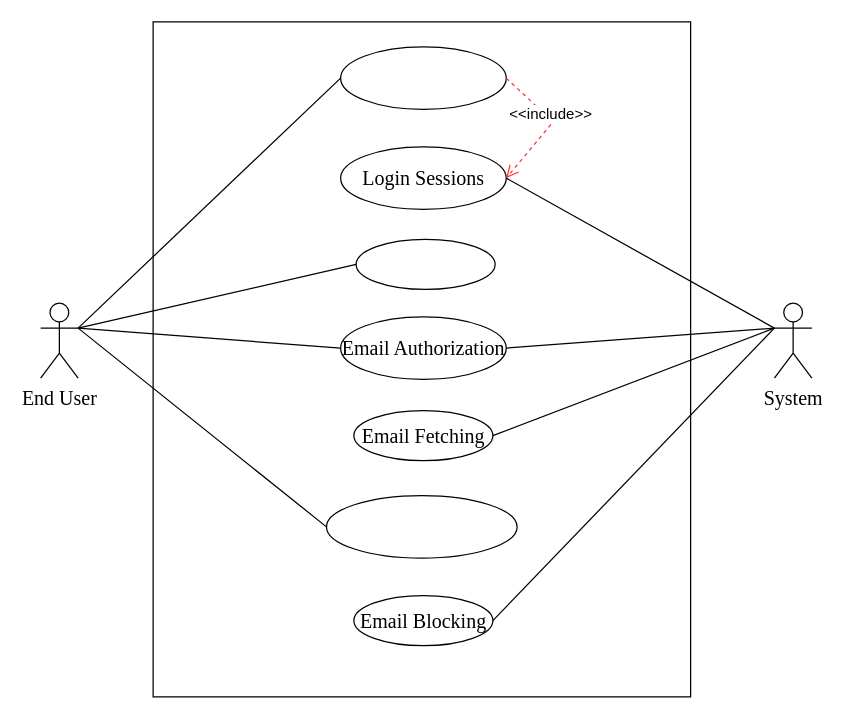
This 844x719 diagram has some shape labels left out. Here are the shapes that lost their labels. From the top down, the centre of each, then its label:
At [422,77]: "Registration/Login".
At [425,263]: "Email Selection".
At [421,526]: "Unwanted Email Selection".
